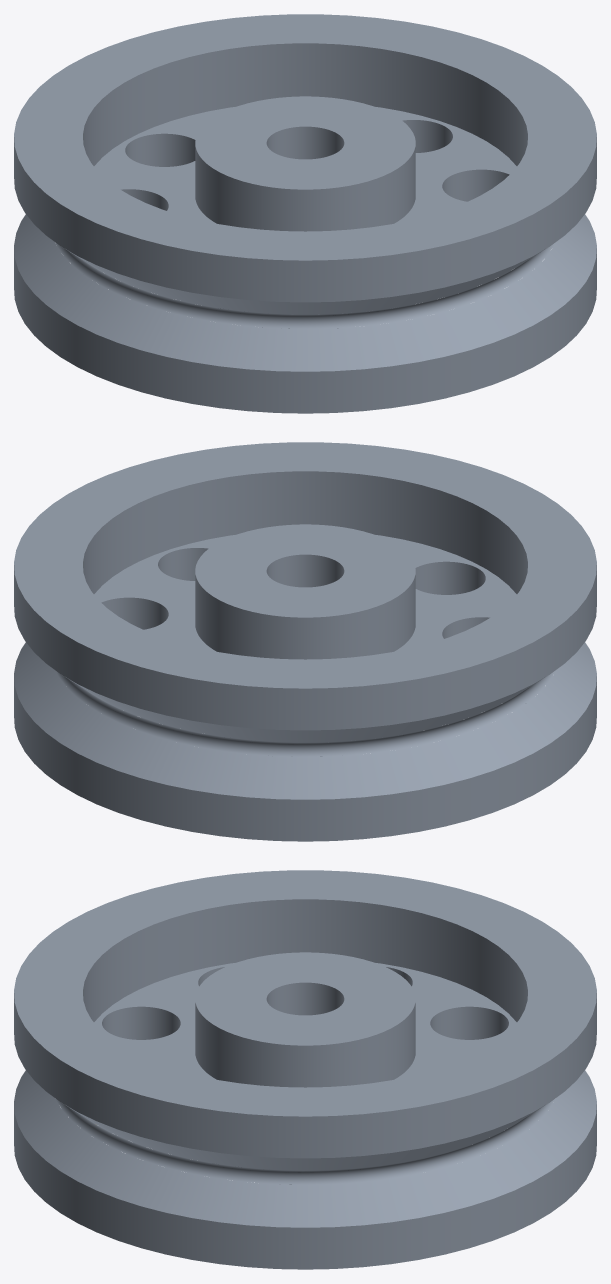
File: step_04.glb
The picture shows the model from 3 angles, top to bottom: view 1: azimuth 30°, elevation 25°; view 2: azimuth 150°, elevation 25°; view 3: azimuth 270°, elevation 25°; orthographic projection.
Parts seen in each view (by area): view 1: part__V-belt pulley; view 2: part__V-belt pulley; view 3: part__V-belt pulley.
Boxes of the visible parts, left/top/right/bottom form: part__V-belt pulley: left=14, top=14, right=596, bottom=413; part__V-belt pulley: left=14, top=442, right=596, bottom=841; part__V-belt pulley: left=14, top=870, right=596, bottom=1269.
Size of the model in its own units: 143 by 41.4 by 143.
